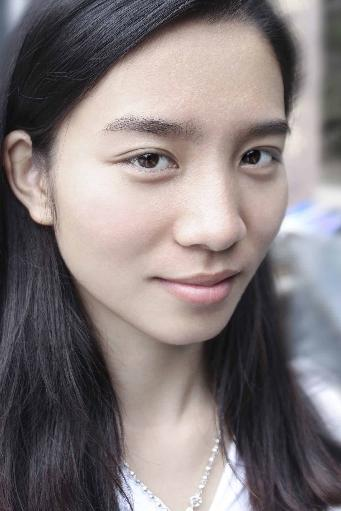left_eye: (237, 146, 283, 178)
left_lip_corner: (233, 268, 246, 288)
right_eye: (110, 150, 180, 185)
right_lip_corner: (143, 271, 168, 294)
